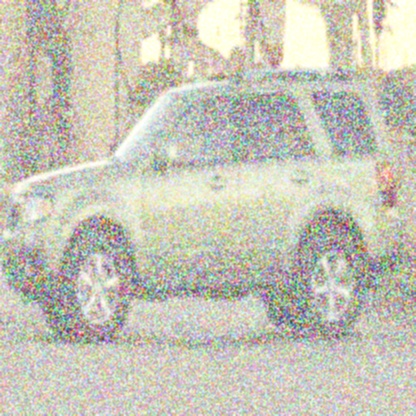Vehicle: (2, 67, 407, 345)
